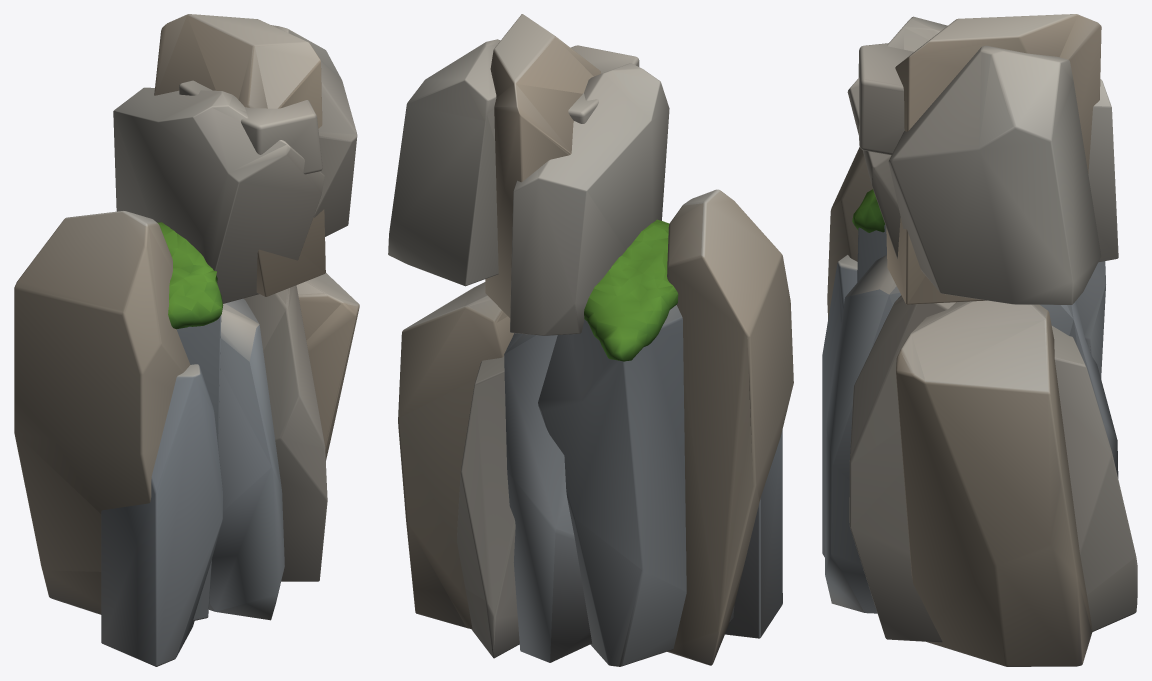
Rendered from glade_bluff_spur_lod2.glb.
3 renders of one model, left to right at view 1: azimuth 30°, elevation 25°; view 2: azimuth 150°, elevation 25°; view 3: azimuth 270°, elevation 25°, orthographic. The views are drawn at different scales.
Parts seen in each view (by area): view 1: glade_bluff_spur.001, moss.001; view 2: glade_bluff_spur.001, moss.001; view 3: glade_bluff_spur.001, moss.001.
Boxes of the visible parts, bbox=[...] form: glade_bluff_spur.001: bbox=[14, 14, 359, 666]; moss.001: bbox=[157, 222, 223, 329]; glade_bluff_spur.001: bbox=[388, 14, 793, 666]; moss.001: bbox=[584, 219, 678, 361]; glade_bluff_spur.001: bbox=[822, 14, 1137, 666]; moss.001: bbox=[852, 189, 884, 232].
Size of the model in its own units: 19.84 by 31.97 by 14.61.
